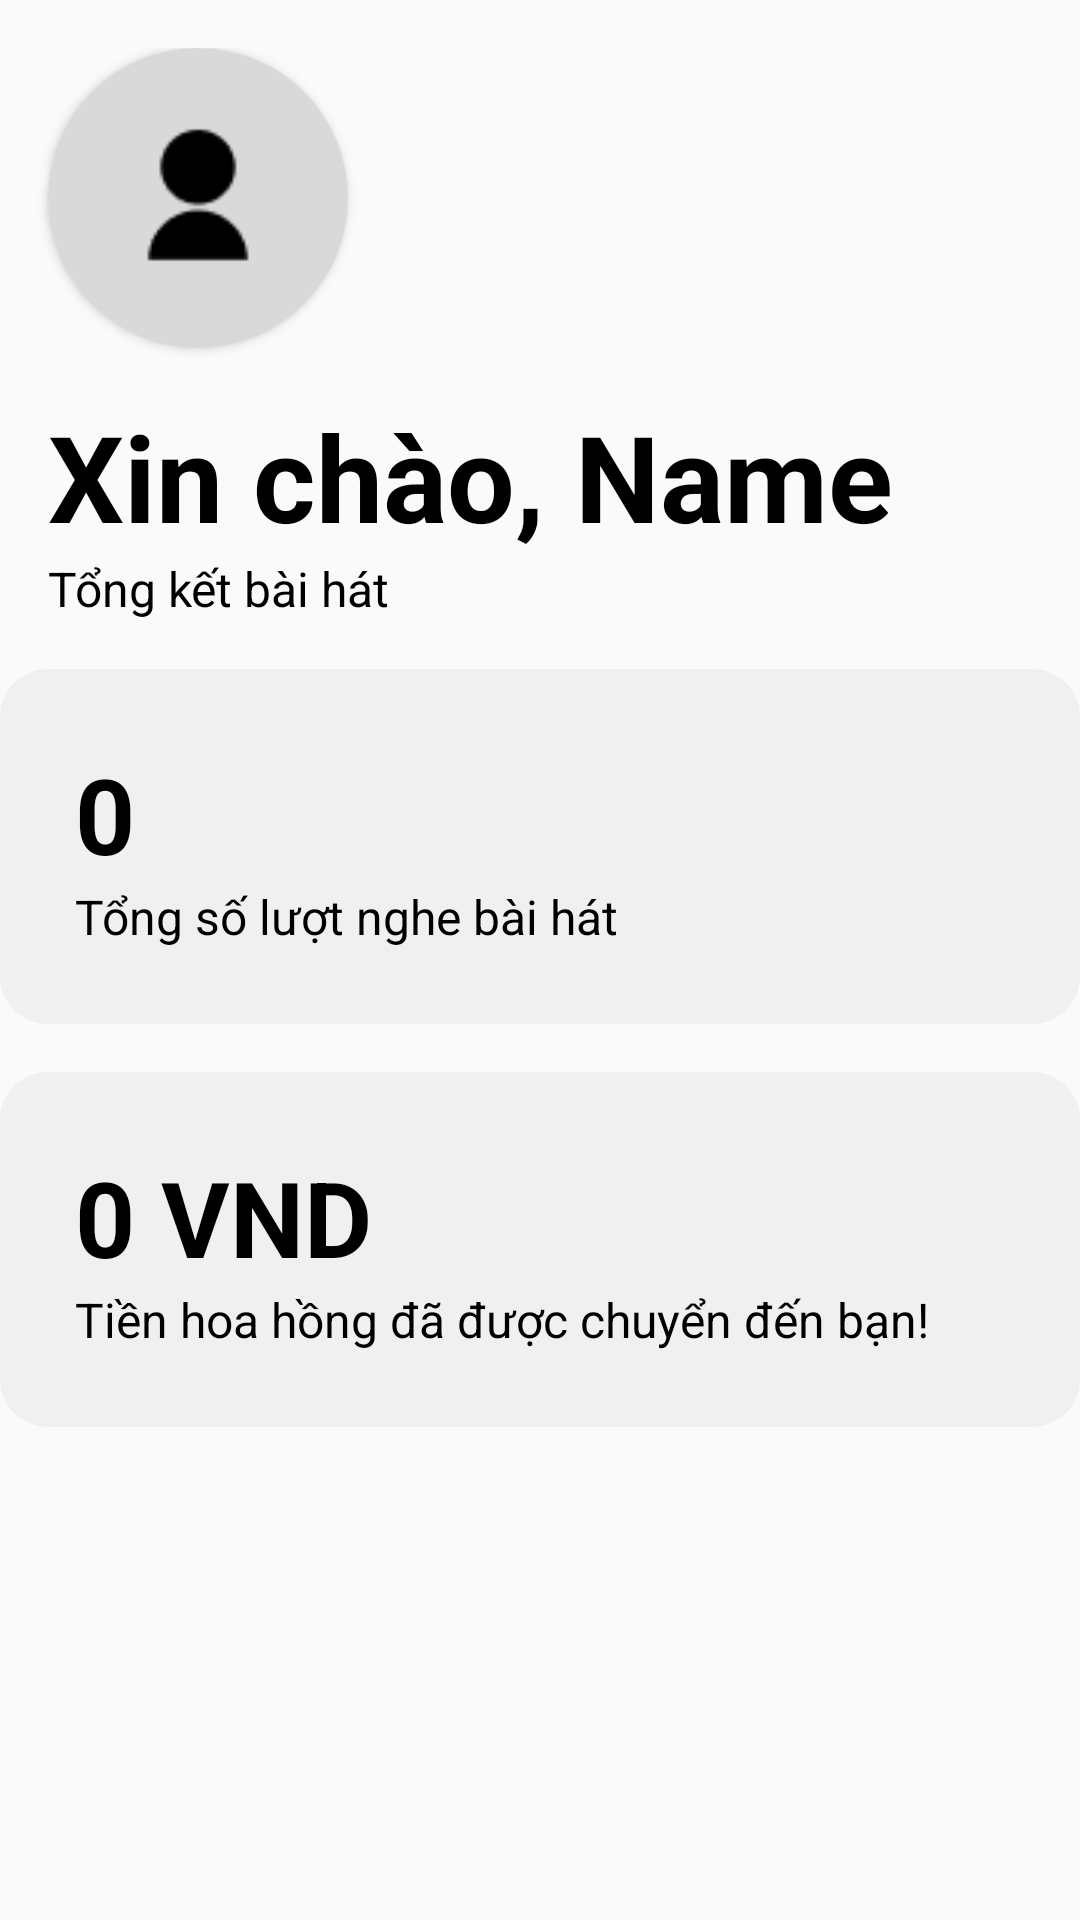

Point at icon controls on the screen. Image size 1080*1920, points as point (x, y).
avt: point (198, 198)
